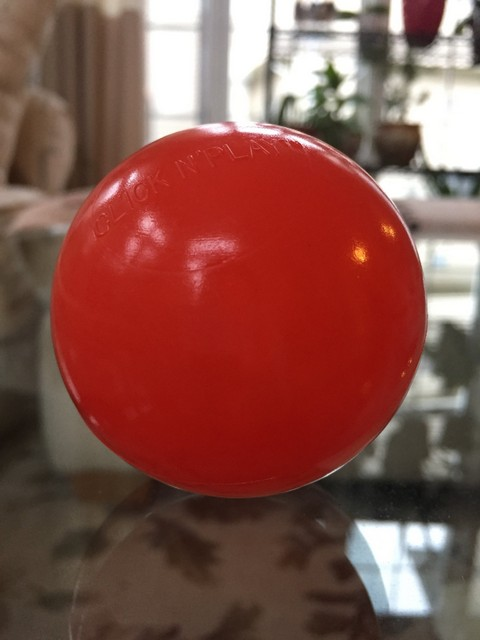Ball: (57, 119, 423, 502)
